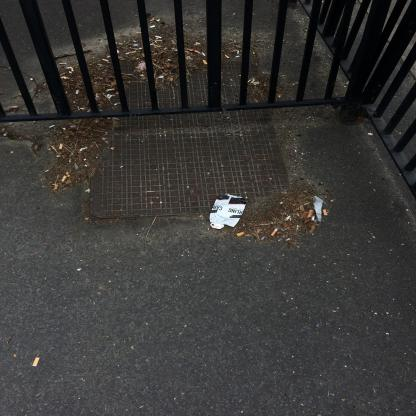metal: (209, 194, 248, 230)
